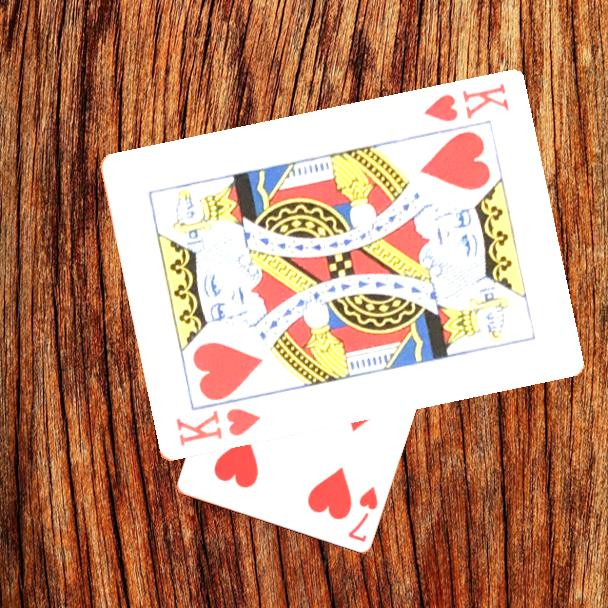h07: (344, 482, 381, 545)
h13: (172, 405, 264, 450), (420, 80, 511, 125)
